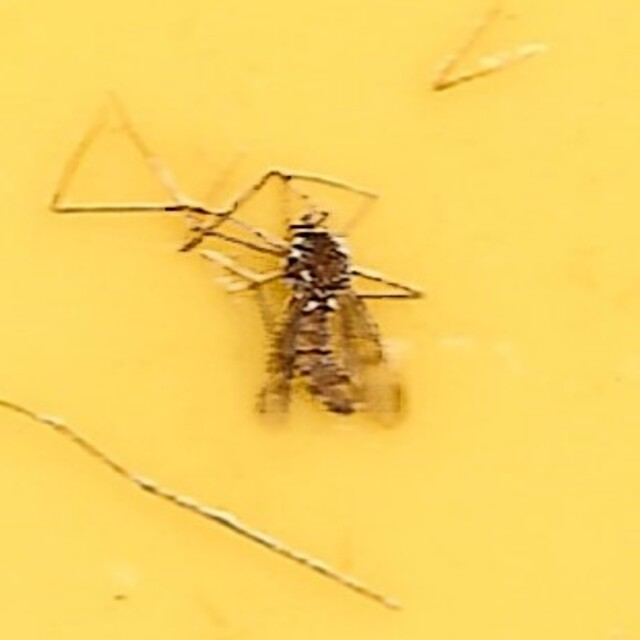Nematocera: (206, 176, 434, 464)
